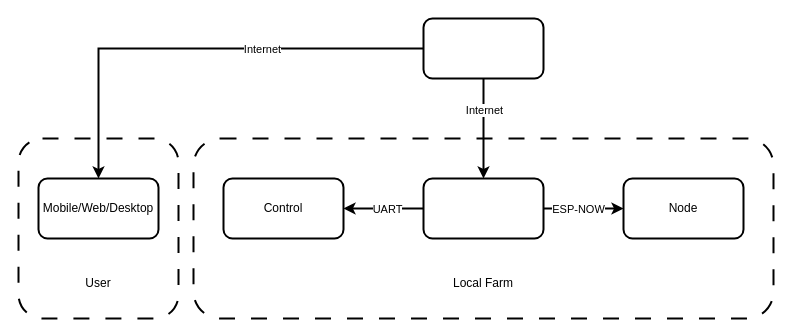
Image size: 791x336. Some labels were removed from this diagram. Here are the shapes that lost their labels. From the top down, the box of each, then its label:
(422, 17, 544, 79): Database
(422, 177, 544, 239): Monitor CYD
